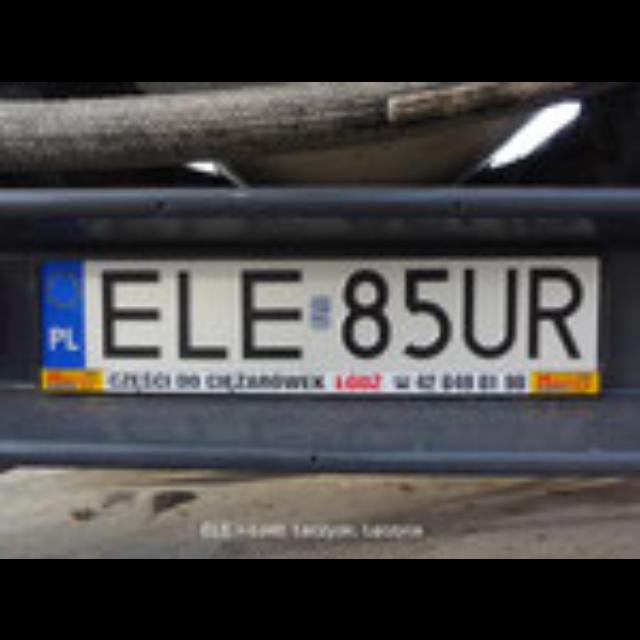pl_license_plate: (39, 256, 593, 362)
